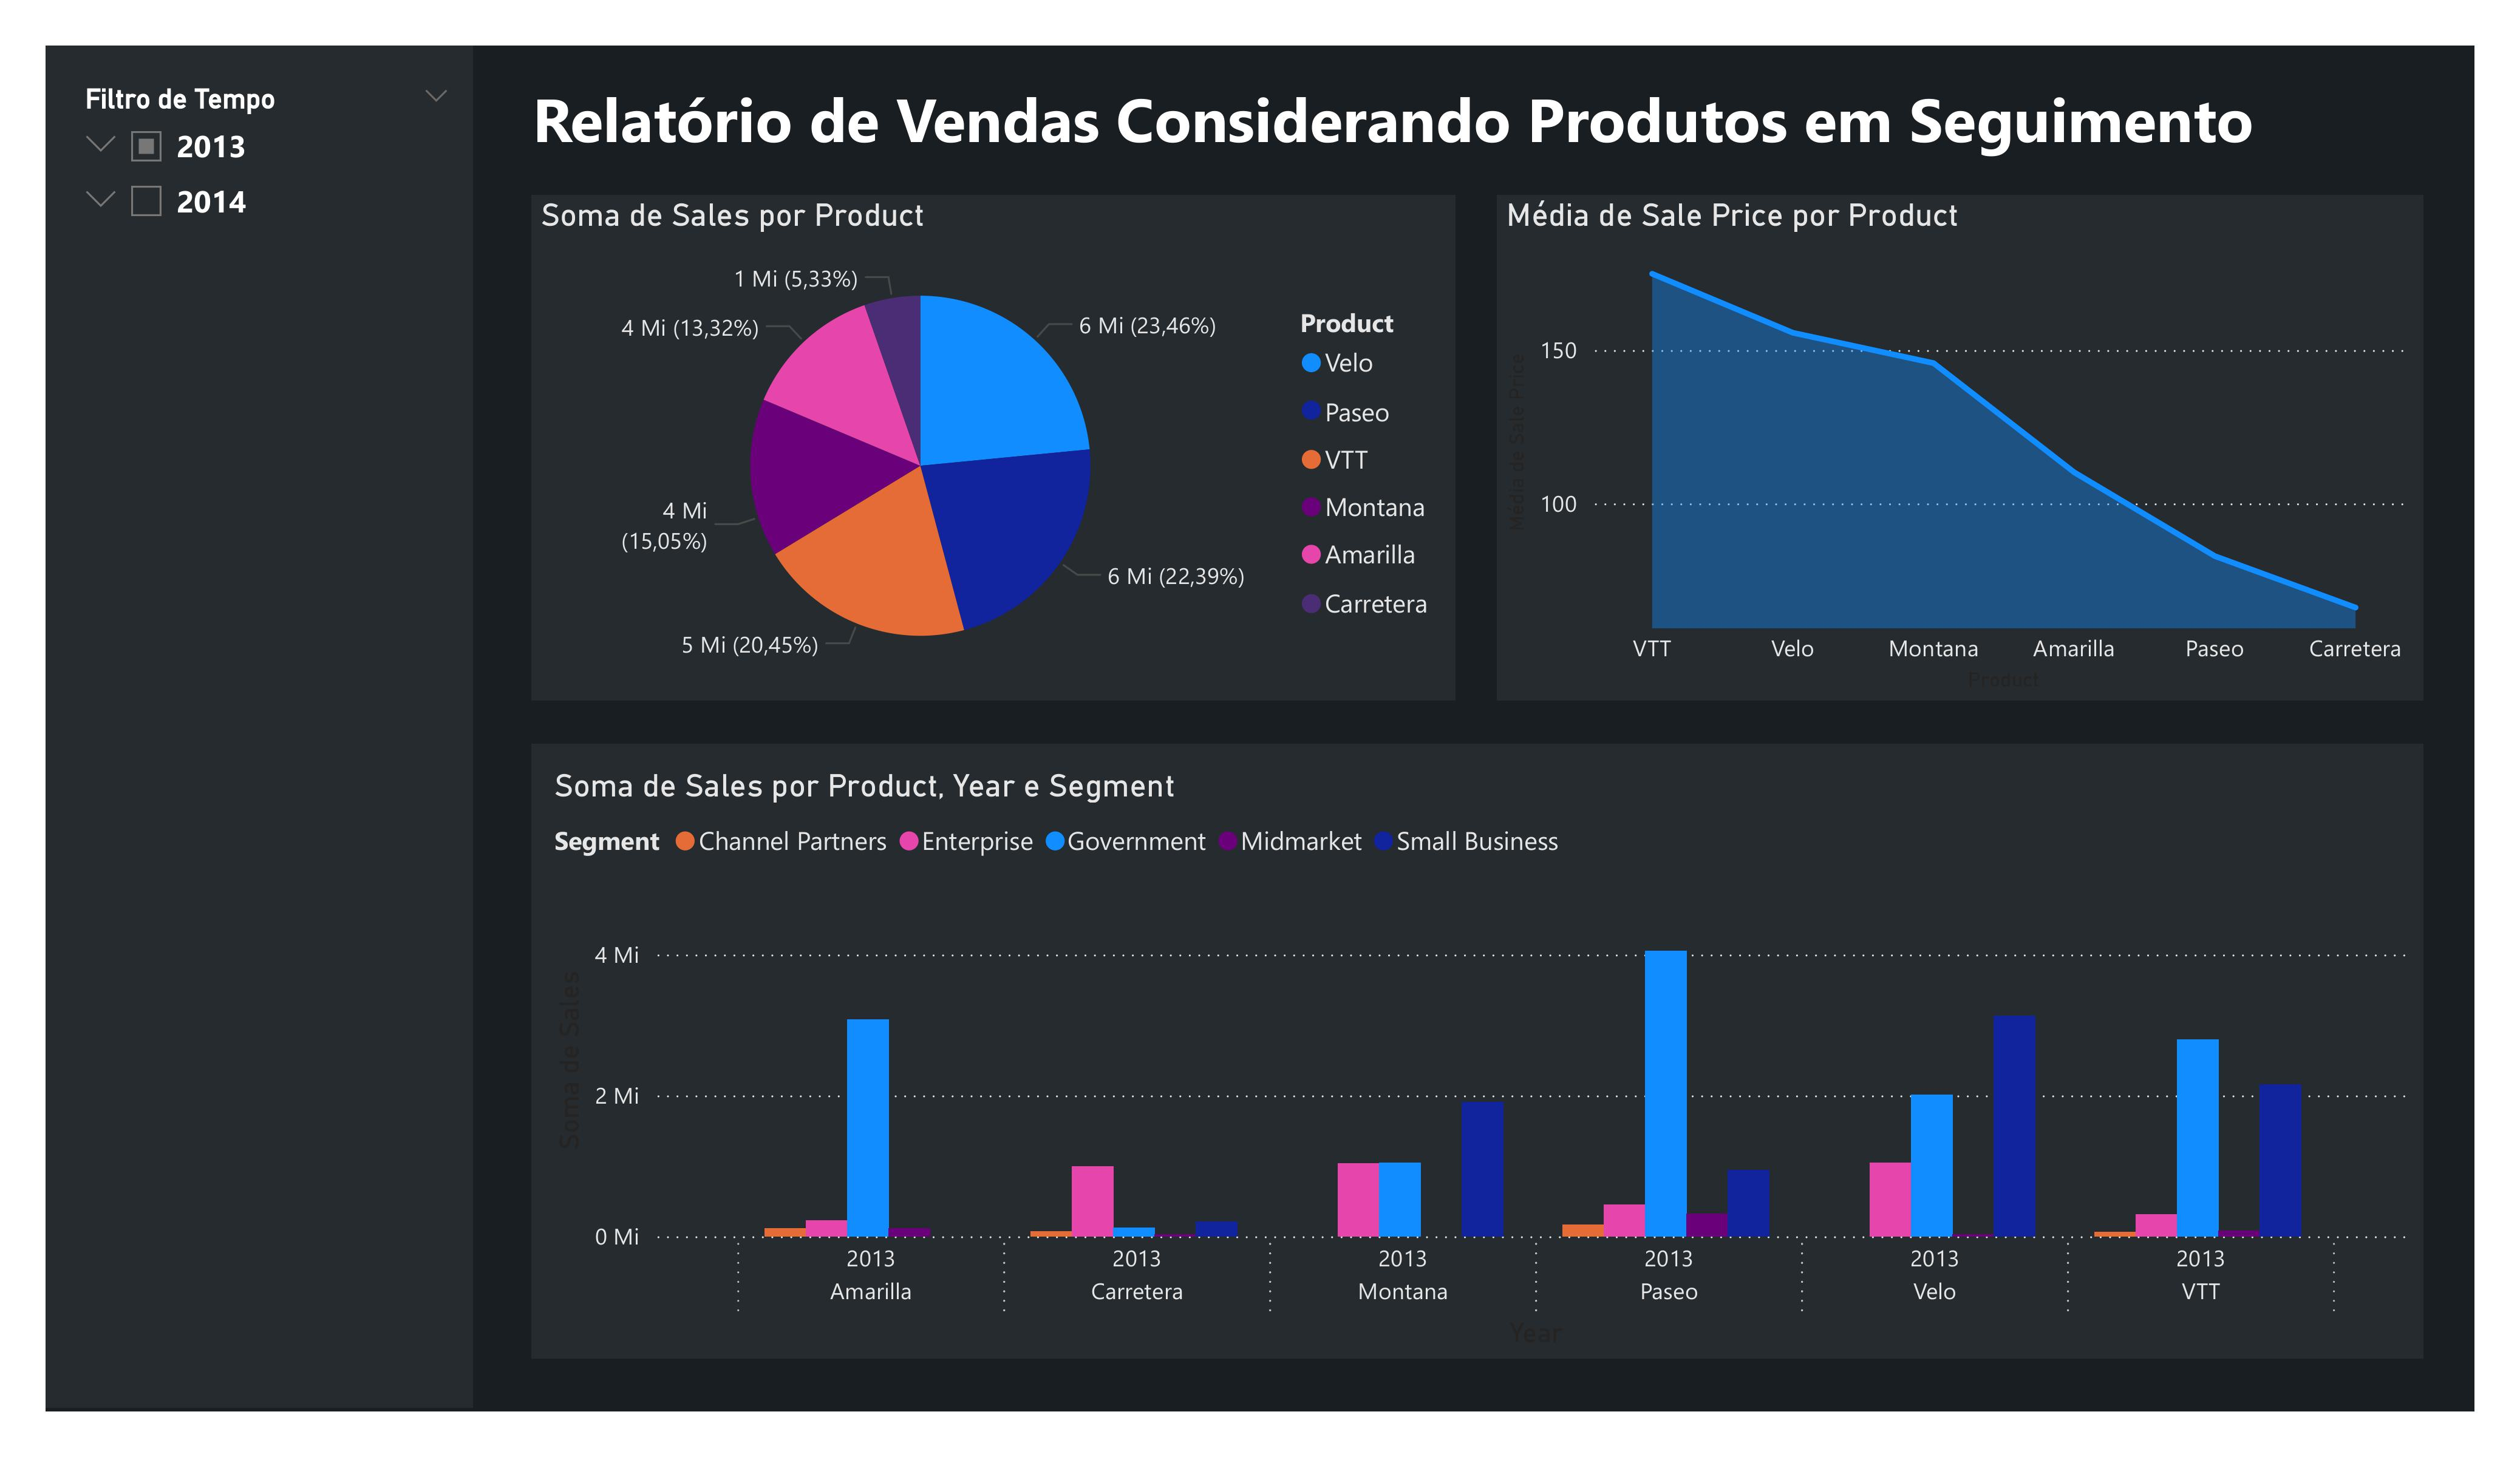

The page's visual inventory and layout, read from the dashboard file:
{"tool":"powerbi","page":{"name":"Página 1","canvas":[1280,720],"ordinal":0},"visuals":[{"type":"pieChart","title":"Soma de  Sales por Product","fields":{"Category":["financials.Product"],"Y":["financials. Sales"]},"box":[256.4,79.1,486.4,265.5],"z":0},{"type":"areaChart","fields":{"Category":["financials.Product"],"Y":["financials.Sale Price"]},"box":[764.5,79.1,488.2,265.5],"z":1000},{"type":"clusteredColumnChart","title":"Soma de Sales por Product, Year e Segment","fields":{"Category":["financials.Product","financials.Year"],"Series":["financials.Segment"],"Y":["financials. Sales"]},"box":[256.4,368.2,996.4,323.6],"z":2000},{"type":"slicer","fields":{"Values":["financials.Date.Variation.Hierarquia de datas.Ano","financials.Date.Variation.Hierarquia de datas.Mês"]},"box":[0,0,225.5,718],"z":3000},{"type":"textbox","box":[225.5,10.9,1054.5,57.3],"z":4000}]}

Visuals, with their boxes on the page's 1280x720 design canvas (x1, y1, x2, y2). These are canvas units, not pixel positions in the 2520x1457 screenshot, which may show the page scaled, cropped or inside an application window:
"Soma de  Sales por Product" pieChart: (256,79,743,345)
areaChart - financials.Product x financials.Sale Price: (764,79,1253,345)
"Soma de Sales por Product, Year e Segment" clusteredColumnChart: (256,368,1253,692)
slicer - financials.Date.Variation.Hierarquia de datas.Ano x financials.Date.Variation.Hierarquia de datas.Mês: (0,0,226,718)
textbox: (226,11,1280,68)
